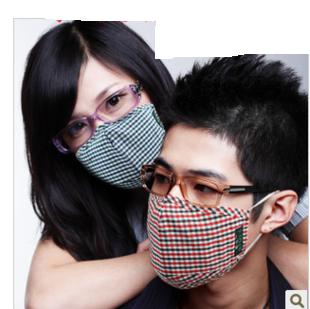OK: (144, 155, 270, 281), (62, 78, 173, 189)
